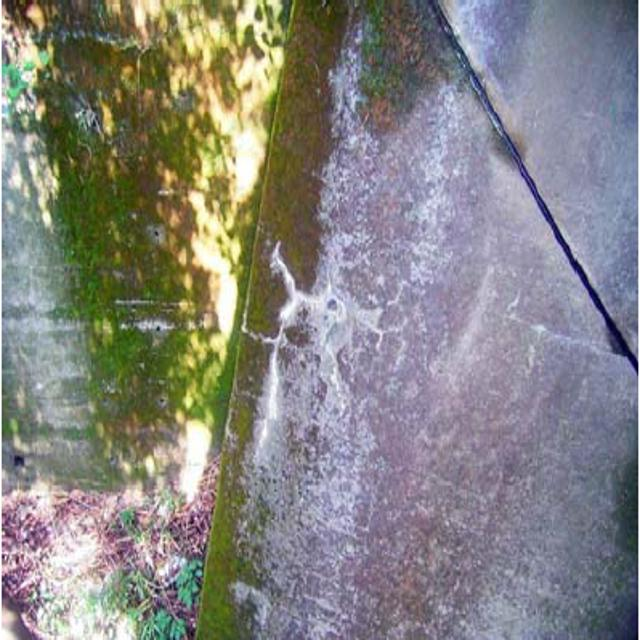crack: (251, 272, 366, 447)
